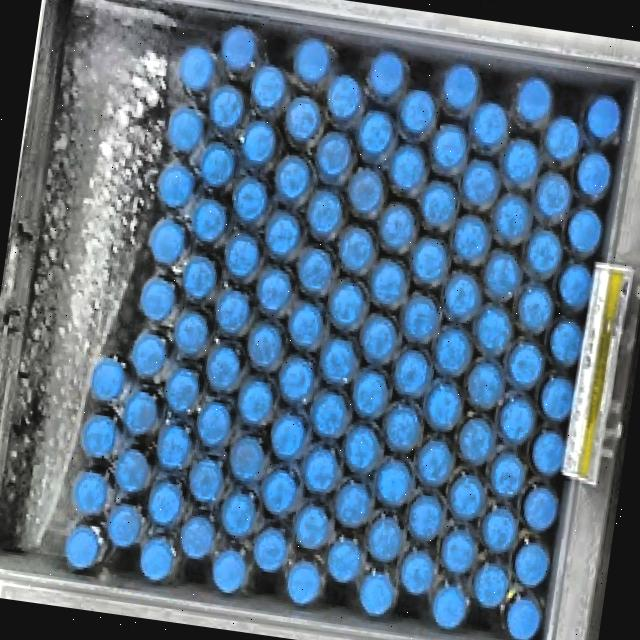vial: (443, 64, 479, 111), (369, 52, 405, 99), (586, 95, 622, 141), (514, 542, 550, 588), (576, 152, 611, 199), (516, 79, 552, 124), (159, 164, 195, 209), (150, 219, 186, 264), (476, 307, 511, 353), (183, 255, 218, 301), (359, 571, 394, 617), (286, 561, 321, 607), (148, 481, 183, 527), (196, 401, 230, 448), (472, 104, 508, 148), (294, 39, 330, 83), (567, 209, 602, 254), (536, 174, 571, 219), (518, 287, 553, 332), (503, 140, 538, 185), (432, 125, 467, 170), (390, 146, 425, 191), (358, 111, 393, 156), (221, 26, 256, 71), (192, 198, 227, 243), (168, 108, 203, 153), (482, 507, 517, 552), (474, 564, 509, 609), (432, 585, 467, 630), (140, 537, 175, 582), (463, 160, 497, 206), (327, 75, 361, 121), (317, 133, 351, 179), (165, 367, 199, 413), (524, 486, 558, 532), (491, 452, 525, 498), (66, 525, 100, 571), (509, 343, 544, 387), (500, 399, 535, 443), (275, 156, 310, 200), (238, 380, 273, 424), (233, 178, 268, 222), (209, 86, 244, 130), (107, 504, 142, 548), (549, 321, 583, 366), (540, 376, 574, 421), (527, 231, 561, 276), (460, 419, 494, 464), (445, 274, 479, 319), (395, 351, 429, 396), (386, 405, 420, 450), (349, 169, 383, 214), (313, 392, 347, 437), (266, 212, 300, 257), (242, 121, 276, 166), (206, 345, 240, 390), (175, 311, 209, 356), (141, 277, 175, 322), (124, 391, 158, 436), (345, 426, 379, 471), (327, 539, 361, 584), (157, 425, 191, 470), (304, 448, 338, 493), (532, 430, 565, 476), (506, 598, 542, 640), (495, 196, 529, 240), (454, 217, 488, 261), (401, 90, 435, 134), (362, 316, 396, 360), (180, 48, 214, 92), (91, 357, 125, 401), (450, 475, 484, 519), (442, 530, 476, 574), (409, 495, 443, 539), (180, 516, 214, 560), (377, 461, 411, 505), (546, 116, 579, 161), (469, 363, 502, 408), (437, 328, 470, 373), (427, 384, 460, 429), (354, 371, 387, 416), (287, 97, 320, 142), (401, 550, 434, 595), (253, 528, 286, 573), (231, 437, 264, 482), (190, 458, 223, 503), (559, 264, 591, 310), (485, 253, 519, 296), (422, 183, 456, 226), (412, 240, 446, 283), (404, 296, 438, 339), (289, 303, 323, 346), (257, 269, 291, 312), (225, 235, 259, 278), (133, 333, 167, 376), (272, 415, 306, 458), (263, 471, 297, 514), (372, 261, 405, 305), (340, 227, 373, 271), (331, 283, 364, 327), (322, 338, 355, 382), (308, 191, 341, 235), (299, 248, 332, 292), (252, 66, 285, 110), (217, 290, 250, 334), (201, 144, 234, 188), (337, 483, 370, 527), (222, 493, 255, 537), (213, 550, 246, 594), (116, 449, 149, 493), (74, 471, 107, 515), (419, 441, 452, 485), (280, 359, 314, 401), (381, 206, 414, 249), (249, 325, 282, 368), (296, 506, 329, 549), (370, 516, 401, 561), (83, 415, 116, 457)
